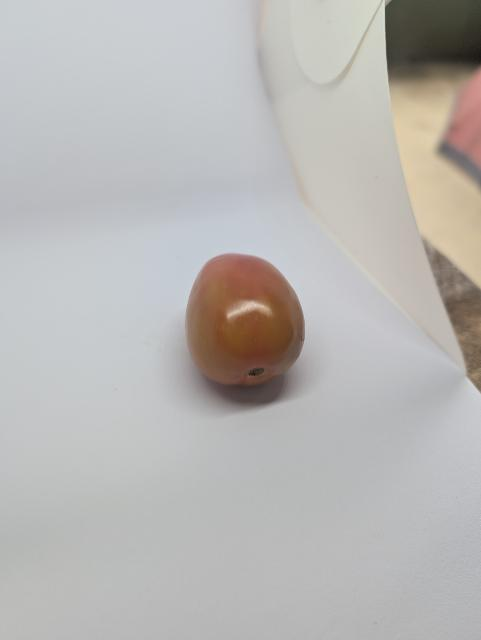turning: (176, 252, 311, 393)
